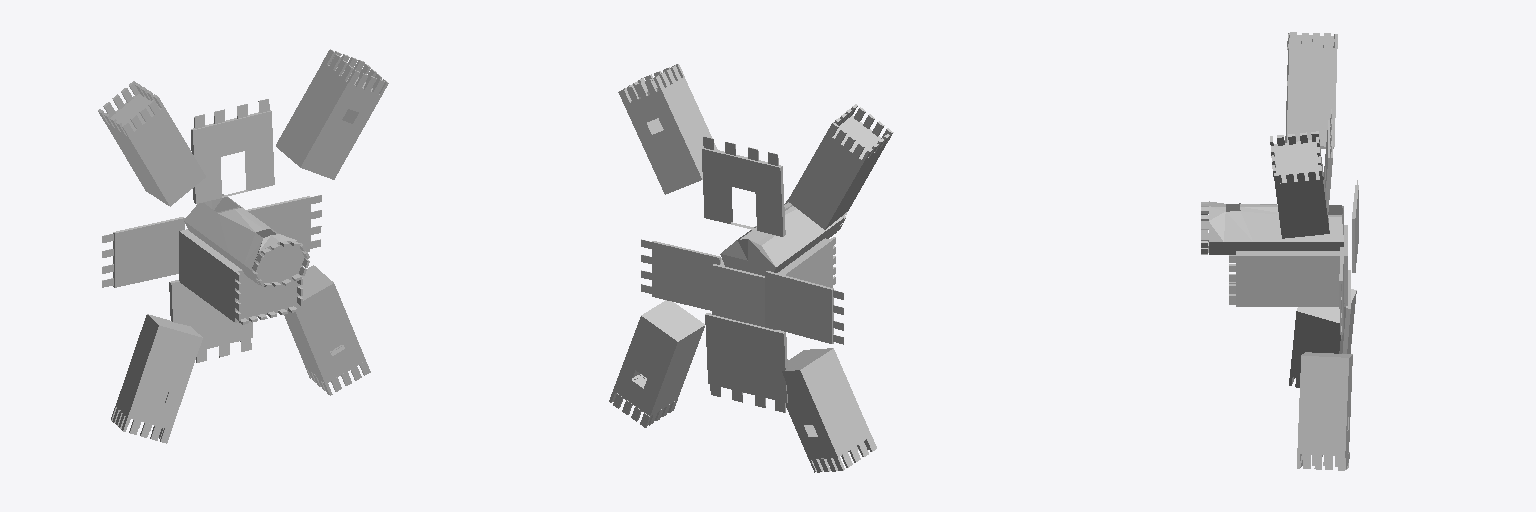
File: castle3d.obj
3 renders of one model, left to right at view 1: azimuth 30°, elevation 25°; view 2: azimuth 150°, elevation 25°; view 3: azimuth 270°, elevation 25°, orthographic.
Visible parts, largest first — view 1: Cube.001_Cube.017, Cube.002_Cube.018, Cube, Cube.003_Cube.019, Cube.006_Cube.023, Cube.008_Cube.029, Cube.009_Cube.030, Cube.005_Cube.027, Cube.004_Cube.026, Cube.007_Cube.028; view 2: Cube.002_Cube.018, Cube.003_Cube.019, Cube.001_Cube.017, Cube, Cube.004_Cube.026, Cube.006_Cube.023, Cube.009_Cube.030, Cube.005_Cube.027, Cube.007_Cube.028, Cube.008_Cube.029; view 3: Cube.009_Cube.030, Cube.003_Cube.019, Cube, Cube.001_Cube.017, Cube.008_Cube.029, Cube.002_Cube.018, Cube.006_Cube.023.
Part boxes in pixels (left/top/right/bottom): Cube.001_Cube.017: left=276, top=49, right=388, bottom=179; Cube.002_Cube.018: left=111, top=314, right=202, bottom=443; Cube: left=98, top=81, right=205, bottom=206; Cube.003_Cube.019: left=284, top=265, right=370, bottom=395; Cube.006_Cube.023: left=191, top=99, right=274, bottom=203; Cube.008_Cube.029: left=184, top=194, right=306, bottom=284; Cube.009_Cube.030: left=179, top=229, right=299, bottom=322; Cube.005_Cube.027: left=102, top=217, right=184, bottom=287; Cube.004_Cube.026: left=169, top=280, right=252, bottom=362; Cube.007_Cube.028: left=247, top=195, right=321, bottom=251; Cube.002_Cube.018: left=782, top=348, right=876, bottom=472; Cube.003_Cube.019: left=609, top=300, right=704, bottom=427; Cube.001_Cube.017: left=618, top=64, right=717, bottom=194; Cube: left=788, top=104, right=893, bottom=229; Cube.004_Cube.026: left=705, top=313, right=787, bottom=412; Cube.006_Cube.023: left=702, top=136, right=785, bottom=236; Cube.009_Cube.030: left=712, top=234, right=832, bottom=329; Cube.005_Cube.027: left=765, top=271, right=843, bottom=344; Cube.007_Cube.028: left=641, top=239, right=720, bottom=310; Cube.008_Cube.029: left=720, top=200, right=843, bottom=275; Cube.009_Cube.030: left=1236, top=225, right=1347, bottom=306; Cube.003_Cube.019: left=1297, top=352, right=1352, bottom=470; Cube: left=1285, top=32, right=1337, bottom=148; Cube.001_Cube.017: left=1270, top=131, right=1329, bottom=238; Cube.008_Cube.029: left=1209, top=201, right=1343, bottom=254; Cube.002_Cube.018: left=1289, top=289, right=1356, bottom=387; Cube.006_Cube.023: left=1324, top=109, right=1332, bottom=211.
Bounding box in the file's own units: 1.31 × 1.72 × 0.6902.